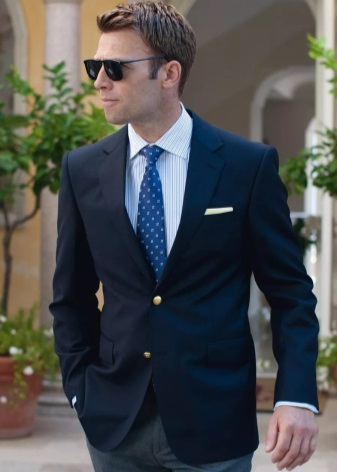glasses: (78, 50, 174, 87)
tie: (131, 144, 178, 279)
